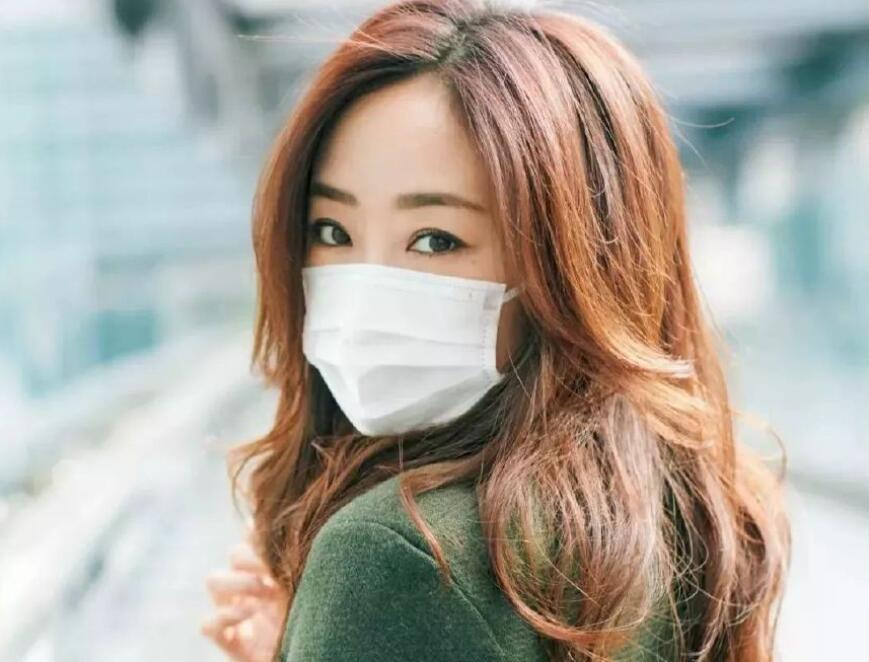mask: (272, 226, 522, 434)
